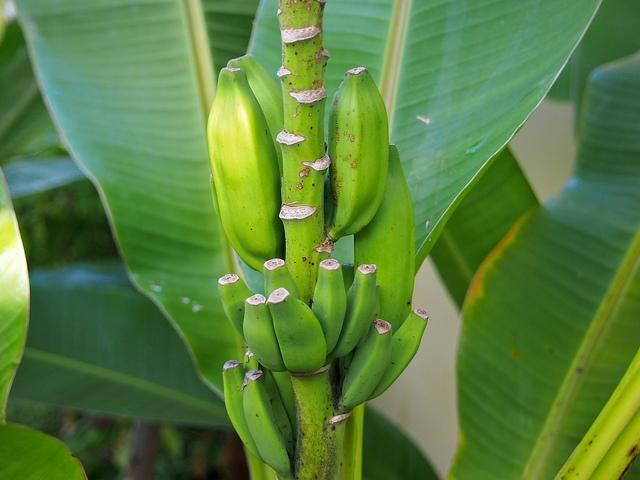banana: (207, 68, 287, 273), (354, 144, 415, 336), (325, 67, 389, 243), (226, 54, 284, 189), (242, 370, 294, 480), (366, 309, 428, 401), (324, 264, 376, 367), (338, 318, 392, 414), (268, 288, 327, 372), (222, 360, 266, 464), (310, 258, 348, 358), (242, 294, 288, 372), (217, 274, 255, 344), (264, 258, 300, 300), (244, 350, 261, 373)
